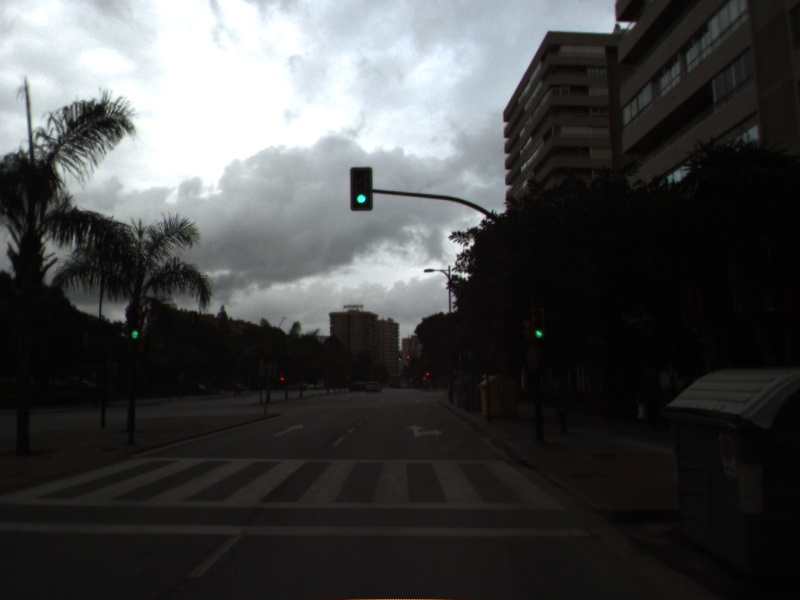STRAIGHT: (271, 422, 306, 439)
STRAIGHT_RIGHT: (403, 422, 446, 440)
